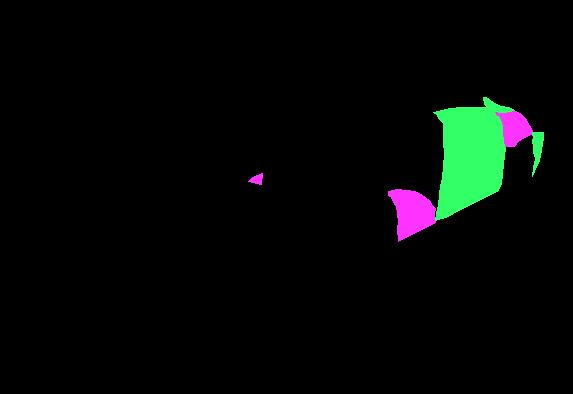Broken part: (433, 107, 505, 220), (532, 132, 543, 176), (483, 97, 514, 112)
Dent: (388, 189, 435, 241), (495, 111, 532, 146), (248, 173, 262, 184)
Missing part: (444, 122, 461, 135)
Scratch: (464, 159, 472, 176)
